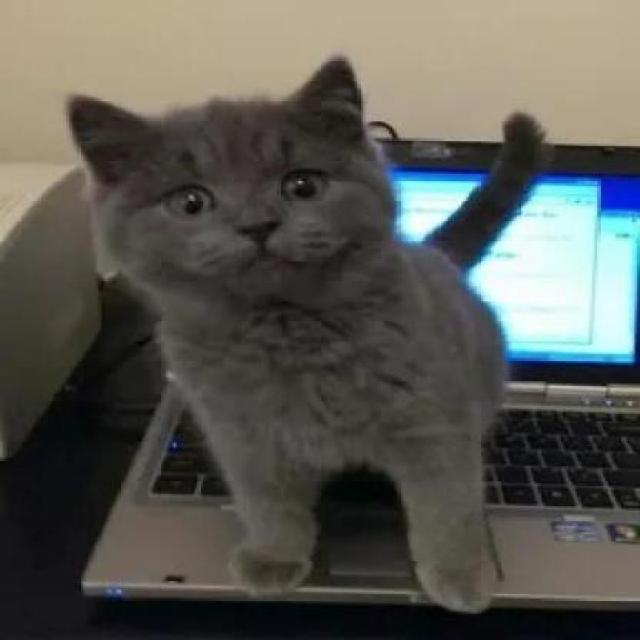cat: (46, 59, 616, 616)
